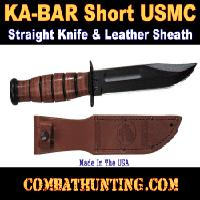knife: (4, 58, 197, 102)
